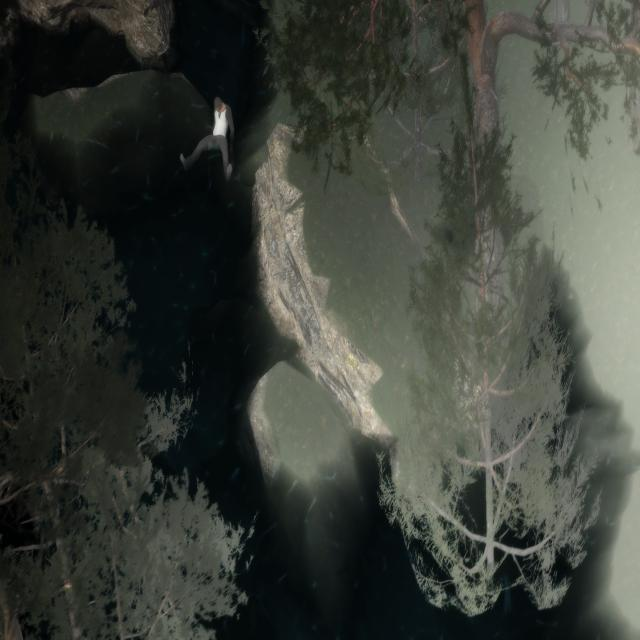Human: (178, 88, 237, 191)
